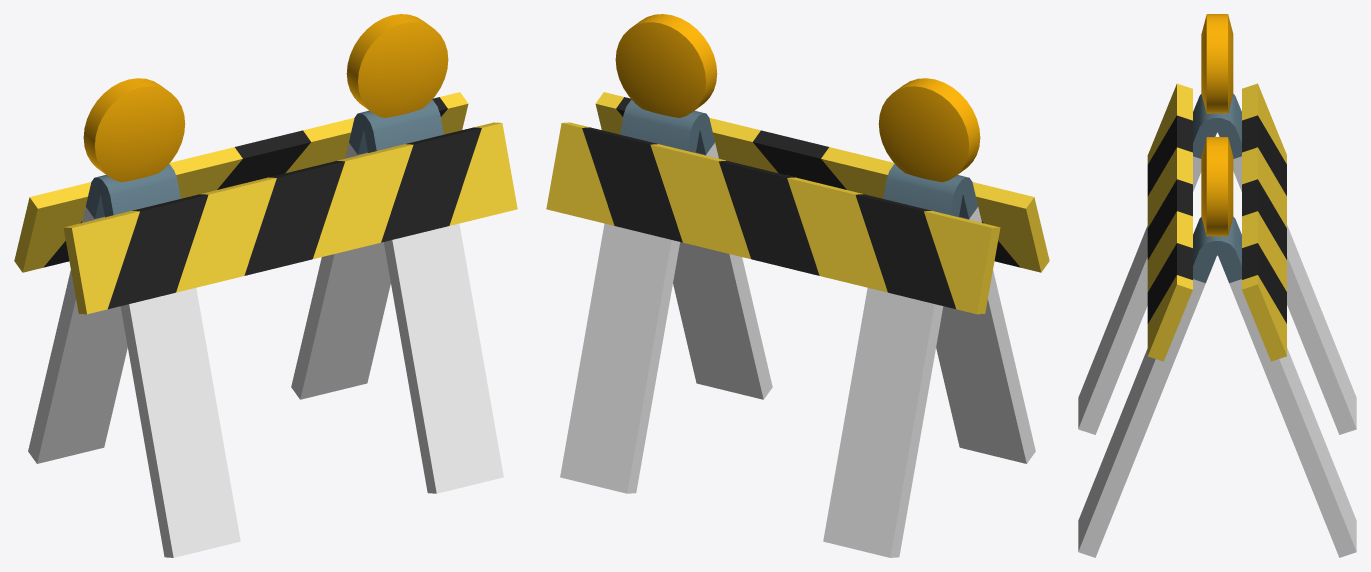
Rendered from construction.fbx.
The picture shows the model from 3 angles, left to right: view 1: azimuth 30°, elevation 25°; view 2: azimuth 150°, elevation 25°; view 3: azimuth 270°, elevation 25°; orthographic projection. The views are drawn at different scales.
Visible parts, largest first — view 1: Plane.237; view 2: Plane.237; view 3: Plane.237.
Boxes of the visible parts, box(x1,y1,x2,y2) form: Plane.237: box(14, 14, 517, 557); Plane.237: box(546, 14, 1049, 557); Plane.237: box(1078, 14, 1356, 557).
Size of the model in its own units: 222 by 206 by 130.
1 material, 1 textured.
